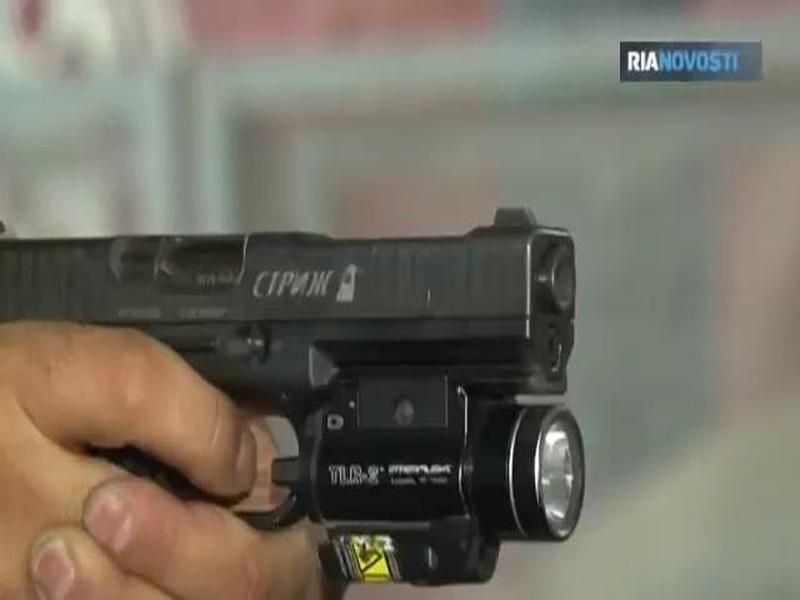Pistola: (1, 201, 601, 587)
